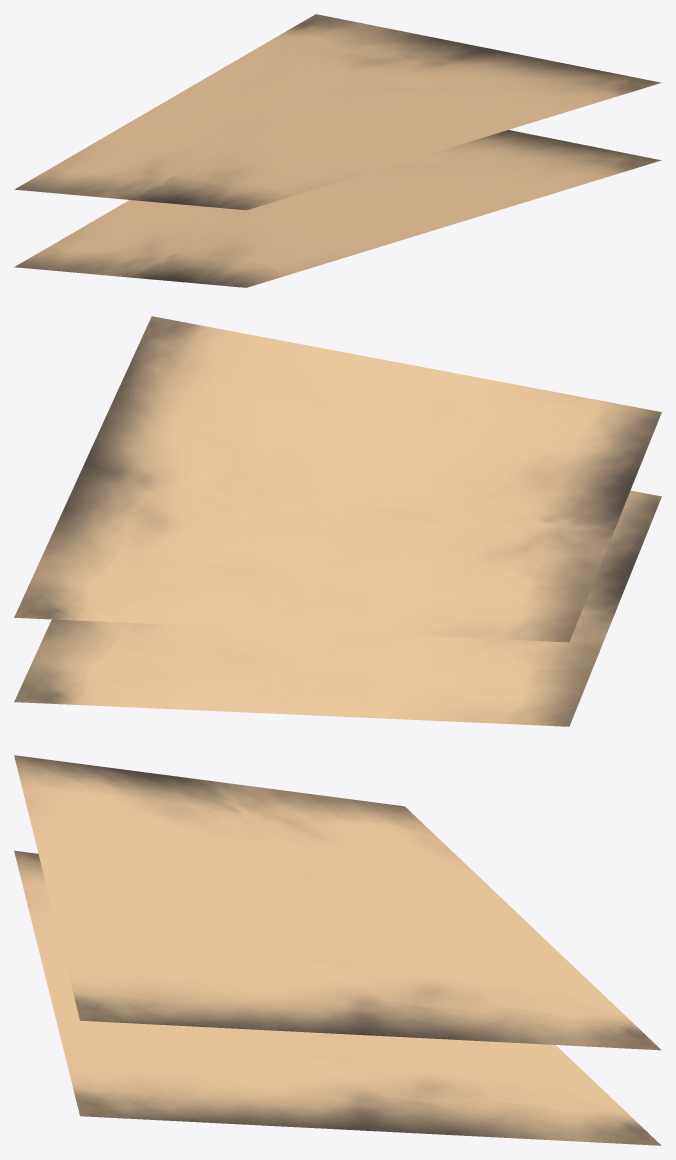
The model's file is CourseSummer_CurveFloor_9_3.fbx.
3 views of the same model, one above another, from view 1: azimuth 30°, elevation 25°; view 2: azimuth 150°, elevation 25°; view 3: azimuth 270°, elevation 25° (orthographic). The views are drawn at different scales.
Visible parts, largest first — view 1: polySurface258, polySurface266; view 2: polySurface258, polySurface266; view 3: polySurface258, polySurface266.
Boxes of the visible parts, box(x1,y1,x2,y2) form: polySurface258: box(14, 14, 661, 210); polySurface266: box(14, 130, 661, 287); polySurface258: box(14, 316, 661, 642); polySurface266: box(14, 490, 661, 726); polySurface258: box(14, 755, 661, 1050); polySurface266: box(14, 850, 661, 1145).
Bounding box in the file's own units: 6.96 × 2 × 6.15.
1 material, 1 textured.
